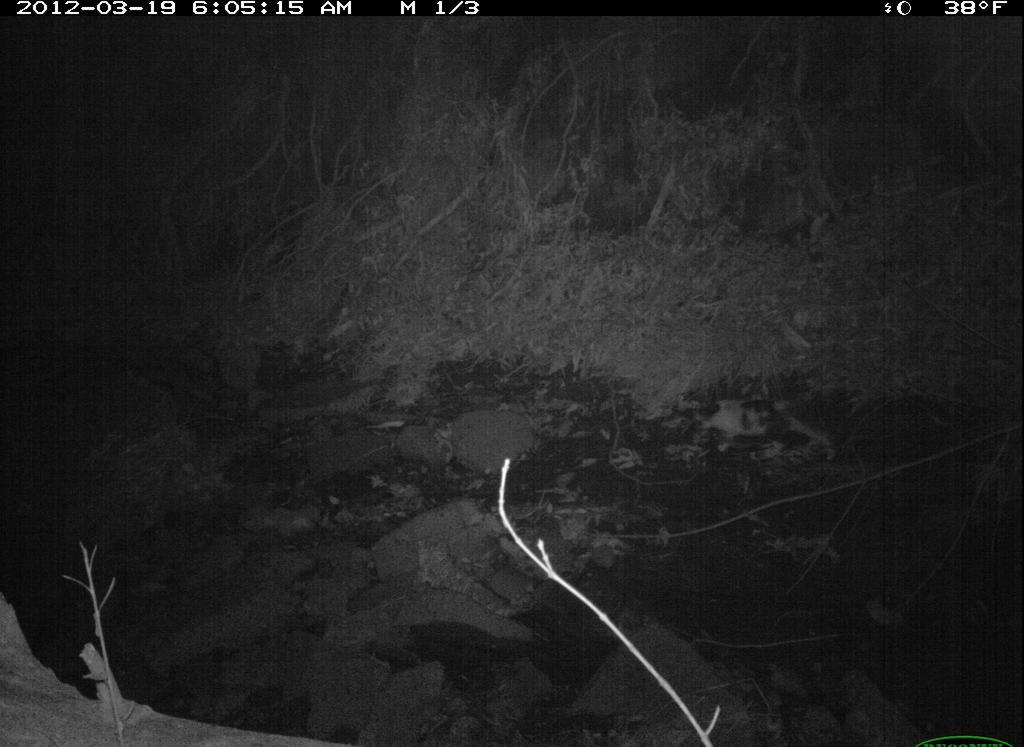cat: (683, 387, 836, 480)
